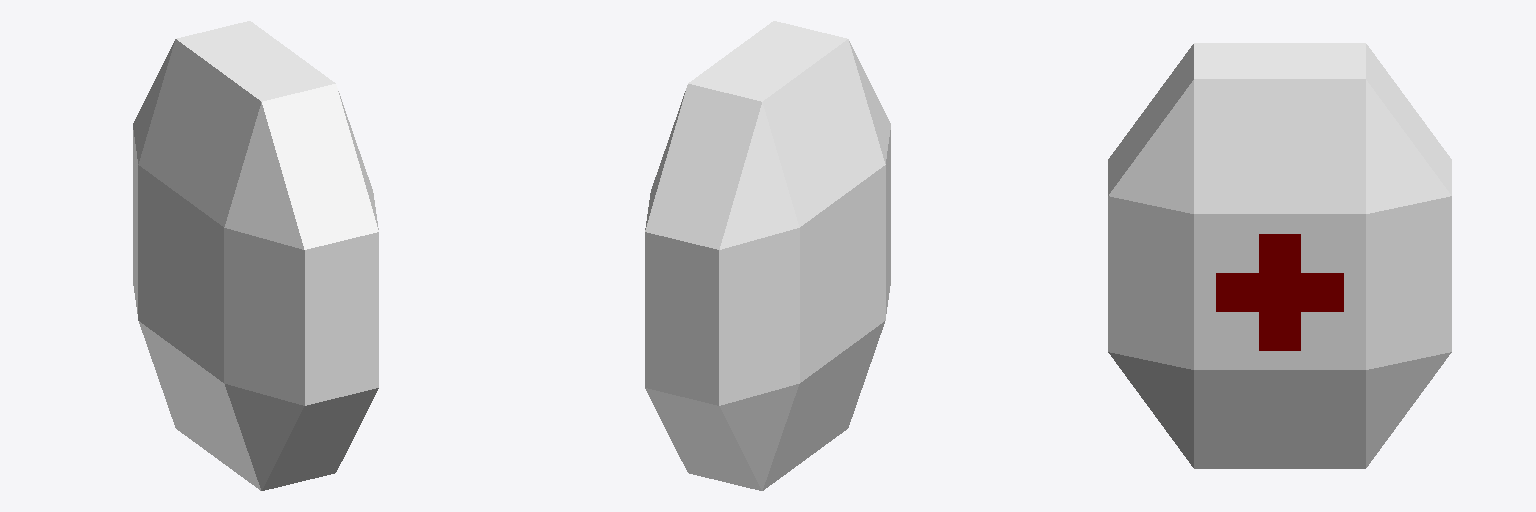
File: HealthPack.obj
3 views of the same model, side by side, from view 1: azimuth 30°, elevation 25°; view 2: azimuth 150°, elevation 25°; view 3: azimuth 270°, elevation 25° (orthographic).
Parts seen in each view (by area): view 1: the_node.016_tri_672_geometry; view 2: the_node.016_tri_672_geometry; view 3: the_node.016_tri_672_geometry.
Part boxes in pixels (x1,y1,x2,y2): the_node.016_tri_672_geometry: (133, 21, 378, 490); the_node.016_tri_672_geometry: (645, 21, 890, 490); the_node.016_tri_672_geometry: (1108, 43, 1451, 468).
Bounding box in the file's own units: 0.3206 × 0.8 × 0.64.